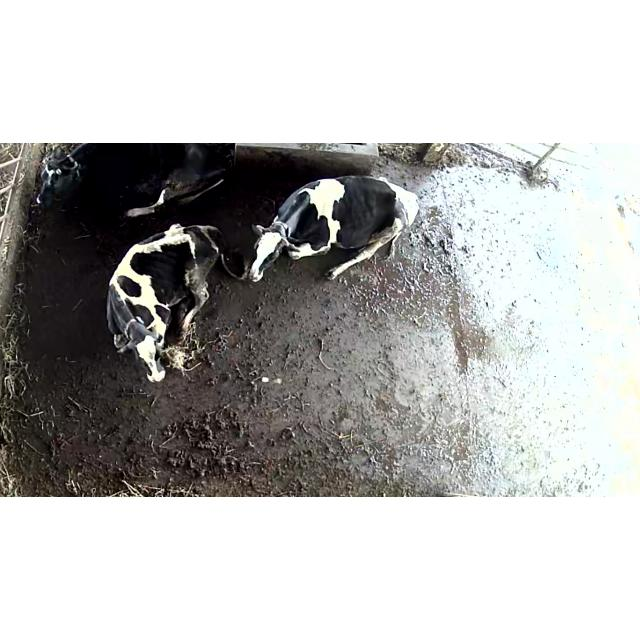lay: (102, 221, 246, 387), (248, 170, 434, 290), (36, 144, 230, 216)
